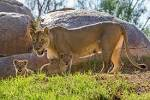lion: (28, 24, 143, 89)
